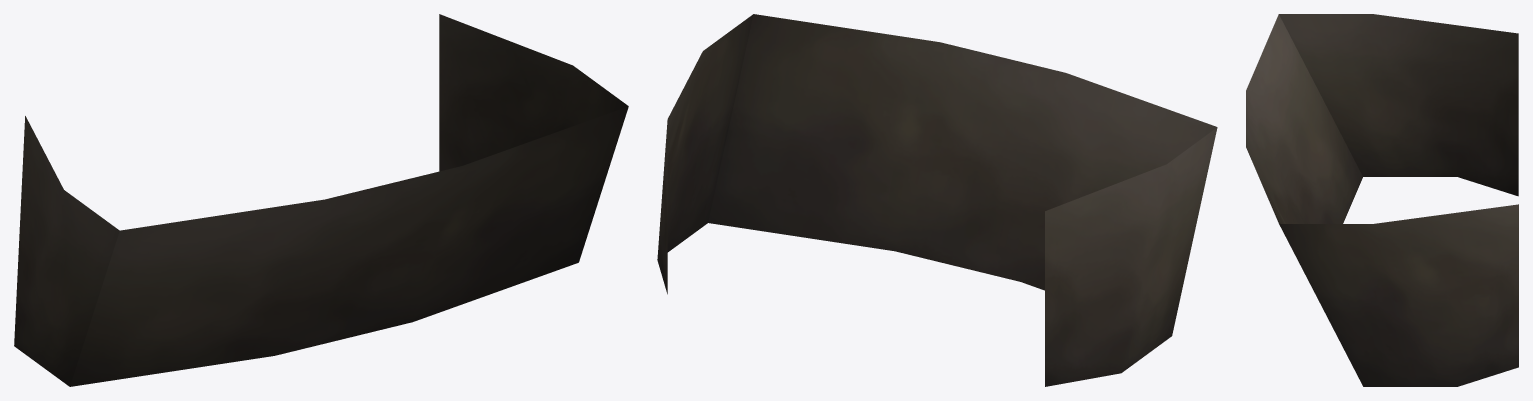
File: crane_140m_glass.DAE
3 views of the same model, side by side, from view 1: azimuth 30°, elevation 25°; view 2: azimuth 150°, elevation 25°; view 3: azimuth 270°, elevation 25° (orthographic). The views are drawn at different scales.
Visible parts, largest first — view 1: Object01; view 2: Object01; view 3: Object01.
Part boxes in pixels (x1,y1,x2,y2): Object01: [14, 14, 628, 386]; Object01: [657, 14, 1217, 386]; Object01: [1246, 14, 1518, 386].
Size of the model in its own units: 19.39 by 7.02 by 10.65.
